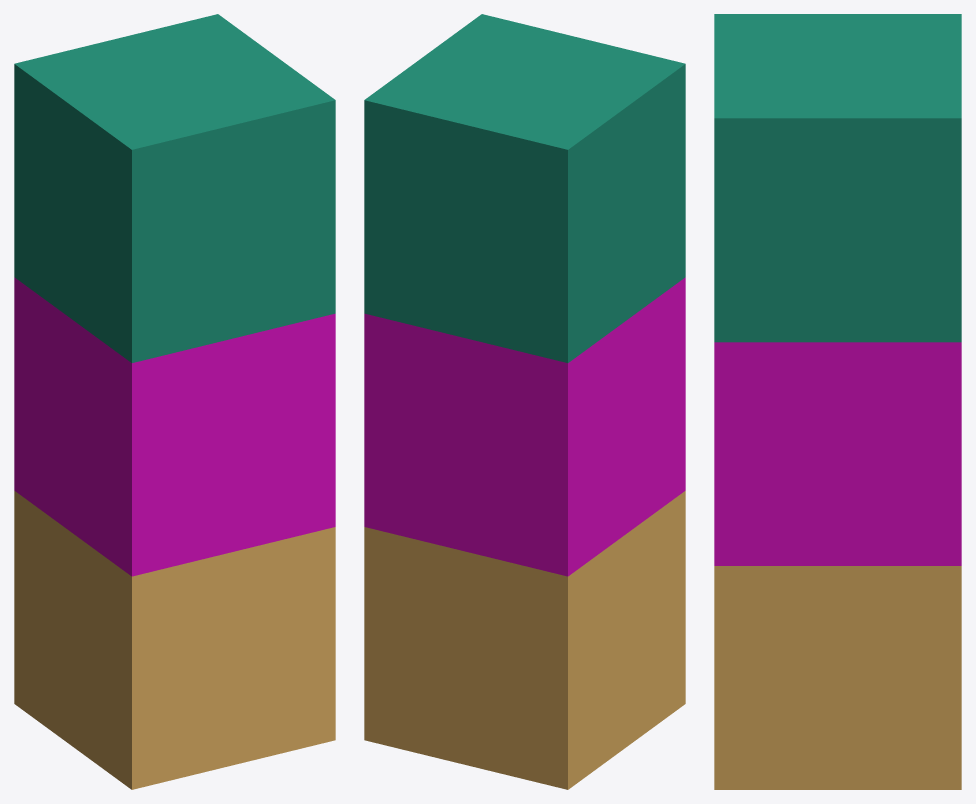
The model's file is hull_wall.glb.
The picture shows the model from 3 angles, left to right: view 1: azimuth 30°, elevation 25°; view 2: azimuth 150°, elevation 25°; view 3: azimuth 270°, elevation 25°; orthographic projection. The views are drawn at different scales.
Visible parts, largest first — view 1: wall_00.001; view 2: wall_00.001; view 3: wall_00.001.
Boxes of the visible parts, x1,y1,x2,y2 form: wall_00.001: [14, 14, 335, 789]; wall_00.001: [364, 14, 685, 789]; wall_00.001: [714, 14, 961, 789].
Size of the model in its own units: 1 by 3 by 1.
